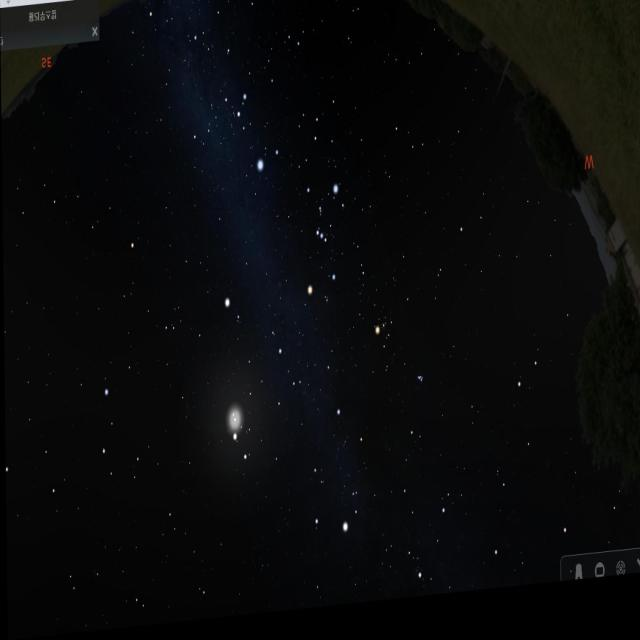canis_major: (230, 88, 282, 186)
canis_minor: (225, 290, 243, 338)
gemini: (230, 346, 301, 474)
moon: (227, 406, 242, 433)
orion: (294, 176, 346, 319)
pleiades: (415, 377, 424, 395)
taurus: (373, 300, 432, 410)
